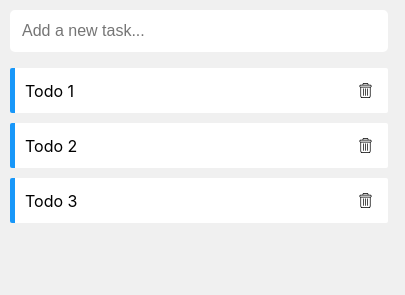
Test: App component › When a new todo is added › the input field gets cleared
The width and height of the screenshot is (405, 295).
Type "New Todo" into the field labelled "new task". click: (199, 31)
box: [10,10,388,52]
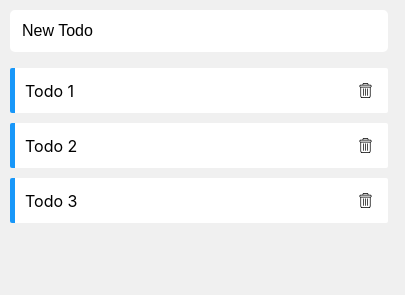
Submit the form from the field named "new task", box [10,10,388,52]
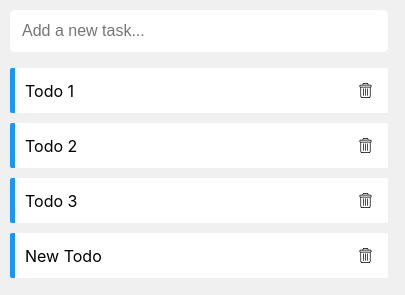
Expected: the text "New Todo" is shown, [10,233,388,278]
Now the field labelled "new task" is empty, box [10,10,388,52]
